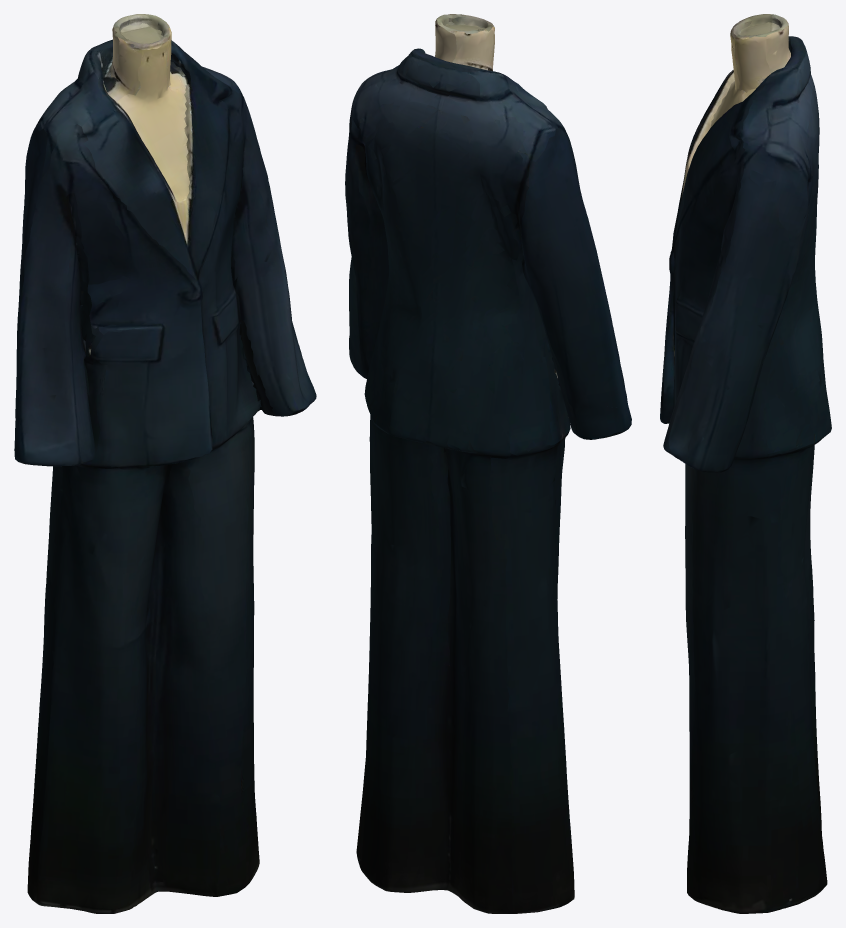
The model's file is conjuntos-opt.glb.
3 views of the same model, side by side, from view 1: azimuth 30°, elevation 25°; view 2: azimuth 150°, elevation 25°; view 3: azimuth 270°, elevation 25° (orthographic).
Visible parts, largest first — view 1: textured_mesh; view 2: textured_mesh; view 3: textured_mesh.
Part boxes in pixels (box(x1,y1,x2,y2)): textured_mesh: box(14, 14, 316, 913); textured_mesh: box(345, 14, 631, 913); textured_mesh: box(660, 14, 831, 913).
Bounding box in the file's own units: 0.6975 × 1.99 × 0.366.
Materials: 1 (1 with a texture image).
